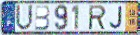1: (71, 4, 80, 32)
9: (53, 4, 69, 32)
B: (34, 4, 51, 31)
J: (109, 5, 124, 30)
R: (88, 4, 107, 31)
U: (15, 3, 34, 32)
